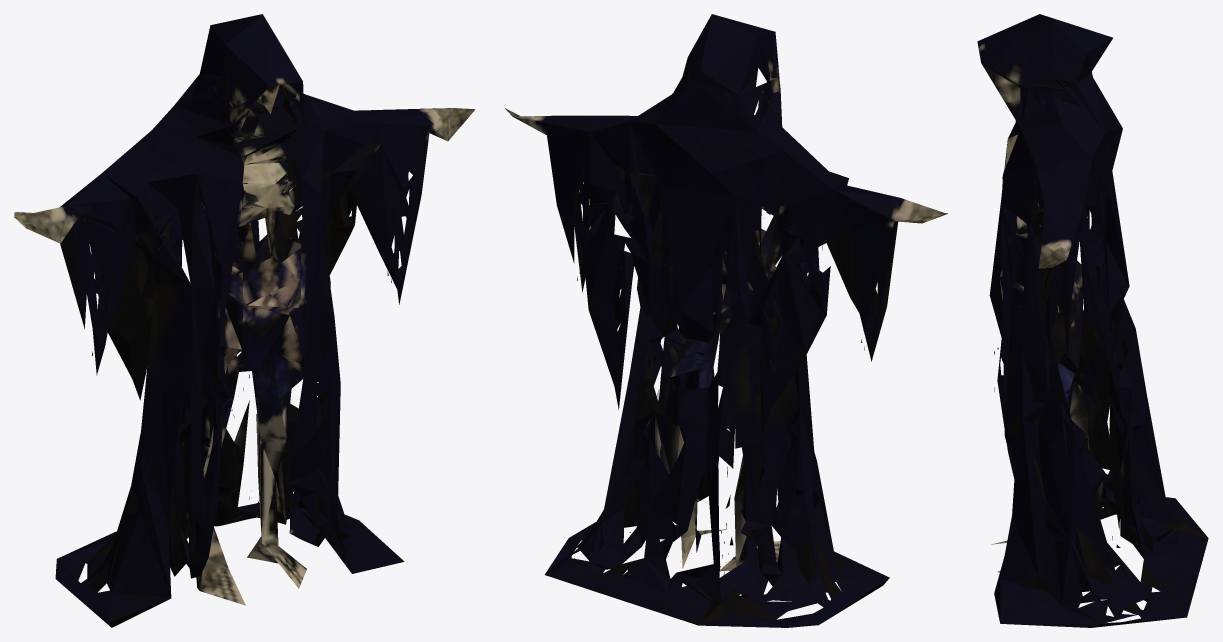
The model's file is skeleton_mage.gltf.
3 views of the same model, side by side, from view 1: azimuth 30°, elevation 25°; view 2: azimuth 150°, elevation 25°; view 3: azimuth 270°, elevation 25° (orthographic). The views are drawn at different scales.
Parts seen in each view (by area): view 1: skeleton_mage; view 2: skeleton_mage; view 3: skeleton_mage.
Boxes of the visible parts, <box> form: skeleton_mage: <box>14,14,475,627</box>; skeleton_mage: <box>505,14,947,627</box>; skeleton_mage: <box>977,14,1208,627</box>.
Size of the model in its own units: 0.8541 by 1 by 0.3771.
1 material, 1 textured.
